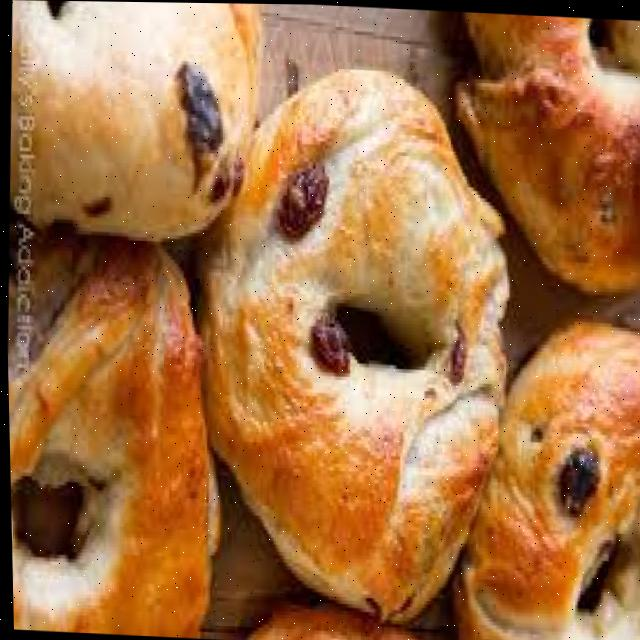Bagel: (198, 72, 506, 619), (7, 241, 206, 631), (450, 320, 640, 640), (8, 0, 256, 239), (454, 12, 640, 290)
